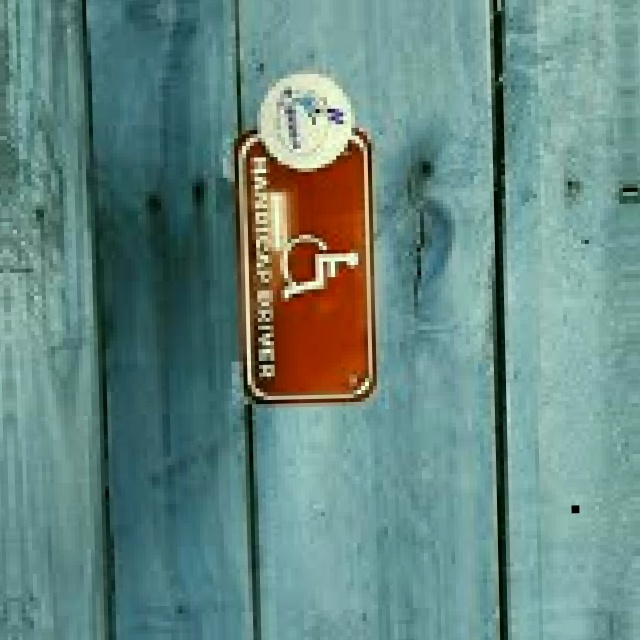ISA: (277, 227, 364, 304)
